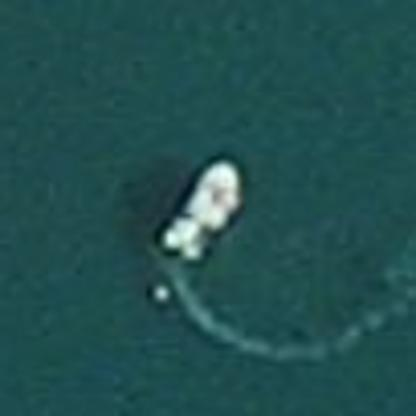ship: (150, 148, 251, 273)
